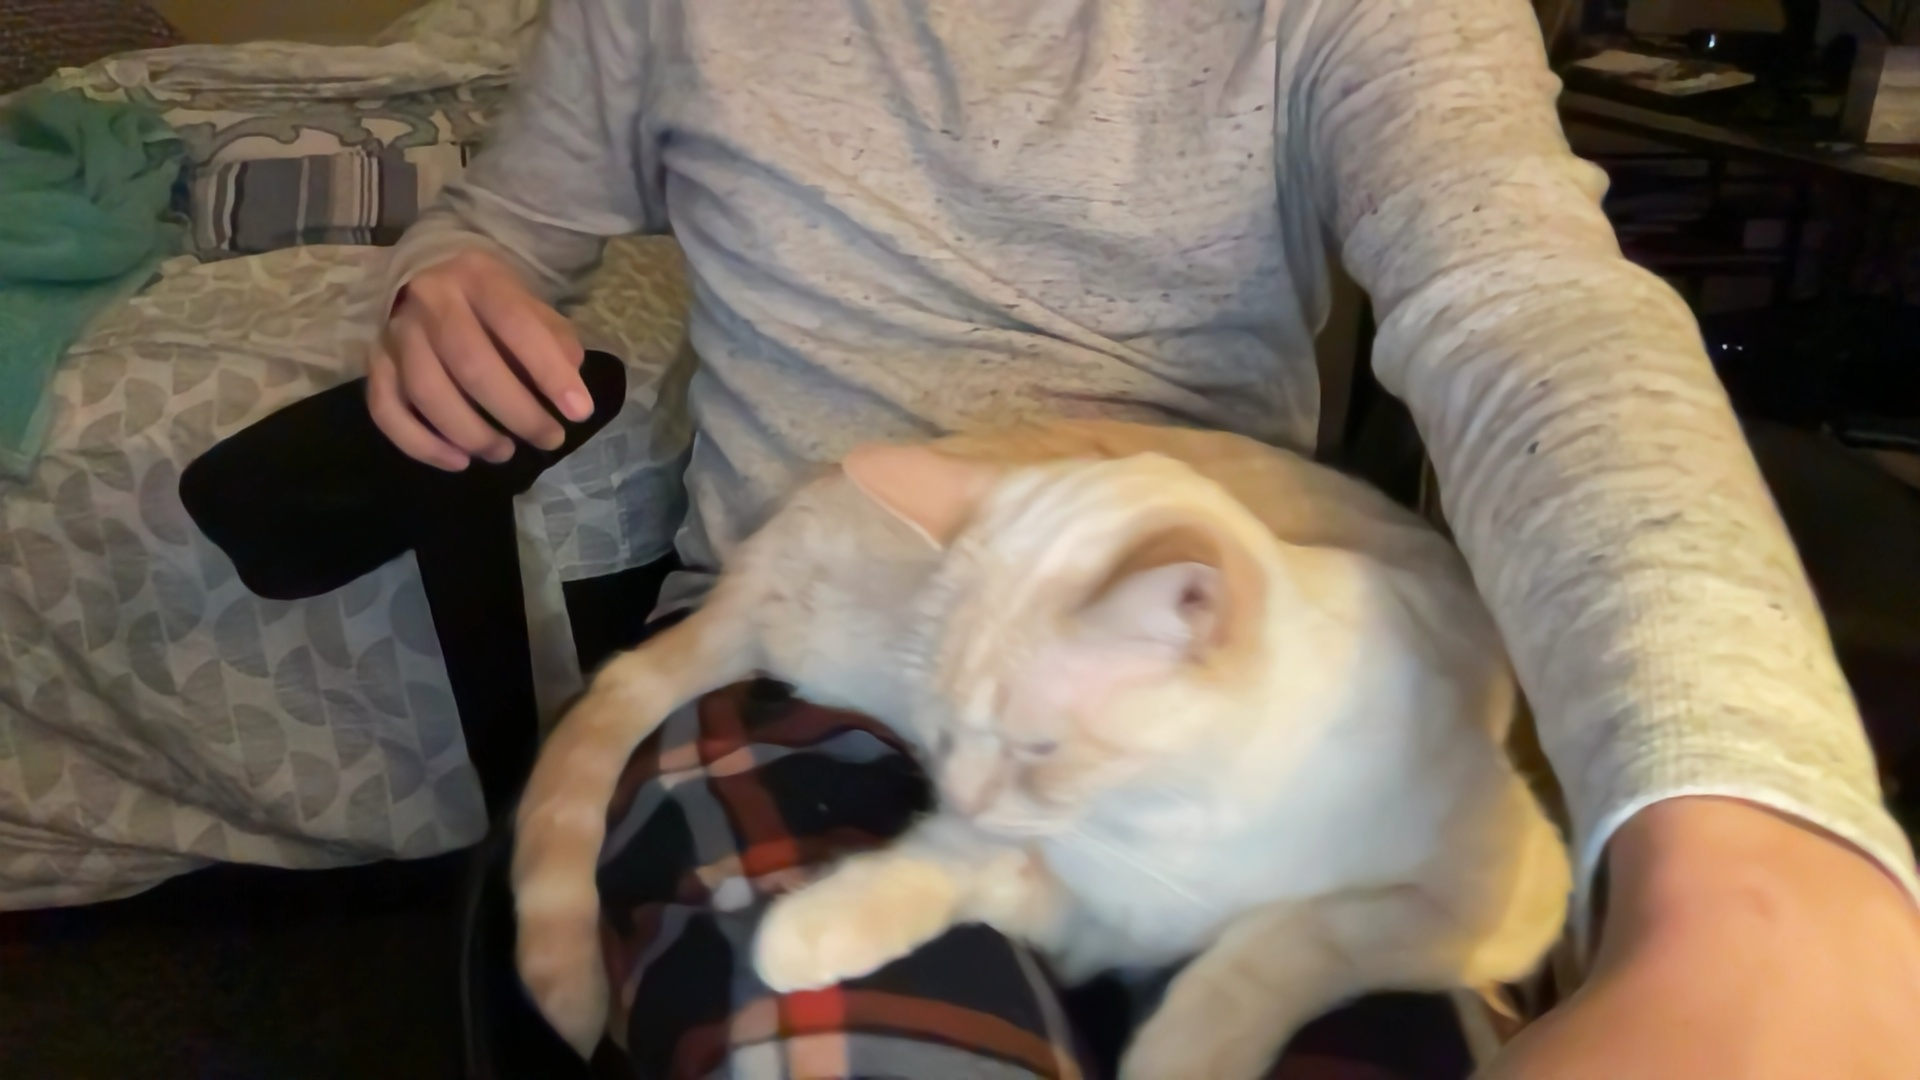cat: (509, 375, 1576, 1080)
